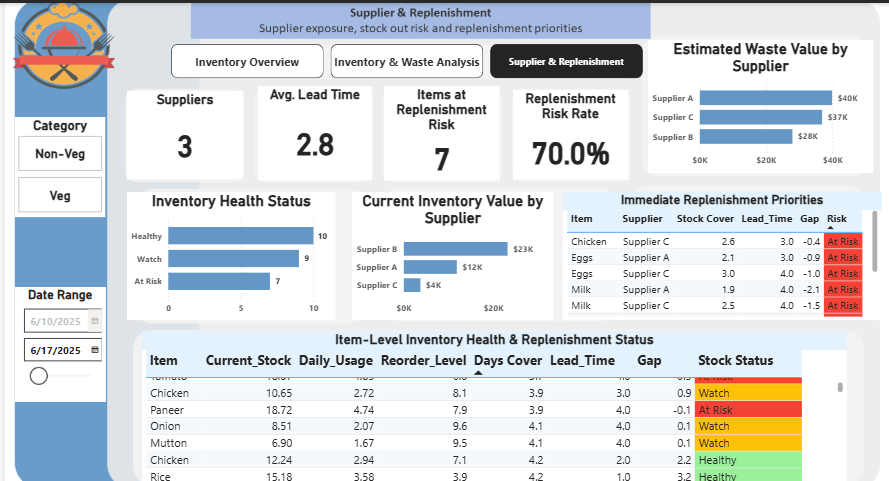

This screenshot's page, from the dashboard's own definition file:
{"tool":"powerbi","page":{"name":"Supplier & Replenishment","canvas":[1280,720],"ordinal":2},"visuals":[{"type":"card","title":"Suppliers","fields":{"Values":["_Measure.Unique Suppliers"]},"box":[174.9,145.5,166,126.4],"z":0},{"type":"card","title":"Avg. Lead Time","fields":{"Values":["_Measure.Average Lead Time"]},"box":[361.5,138.1,163.1,135.2],"z":1000},{"type":"card","title":"Items at Replenishment Risk","fields":{"Values":["_Measure.Items With Stock Coverage Risk"]},"box":[540.7,138.1,164.6,135.2],"z":2000},{"type":"card","title":"Replenishment Risk Rate","fields":{"Values":["_Measure.Stock Coverage Risk %"]},"box":[725.9,144,164.6,127.8],"z":3000},{"type":"clusteredBarChart","title":"Current Inventory Value by Supplier","fields":{"Category":["Fact_Inventory.Supplier_Name"],"Y":["_Measure.Current Inventory Value"]},"box":[495,290,288.3,183.3],"z":4000},{"type":"clusteredBarChart","title":"Estimated Waste Value by Supplier","fields":{"Category":["Fact_Inventory.Supplier_Name"],"Y":["_Measure.Waste Value"]},"box":[918.4,73.5,321.8,189.6],"z":5000},{"type":"clusteredBarChart","title":"Inventory Health Status","fields":{"Category":["Fact_Inventory.Stock Status02"],"Y":["Count(Fact_Inventory.Item_ID)"]},"box":[175,290,298.3,183.3],"z":6000},{"type":"slicer","title":"Date Range","fields":{"Values":["Dim_Date.Date"]},"box":[14.7,426.1,129.3,163.1],"z":7000},{"type":"pageNavigator","box":[236.6,77.9,675.9,50],"z":8000},{"type":"tableEx","title":"Item-Level Inventory Health & Replenishment Status","fields":{"Values":["Fact_Inventory.Item_Name","Fact_Inventory.Current_Stock","Fact_Inventory.Daily_Usage","Fact_Inventory.Reorder_Level","_Measure.Average Days of Stock Cover","Fact_Inventory.Lead_Time","_Measure.Stock Cover Gap","Fact_Inventory.Stock Status02"]},"box":[195.7,488.6,1007.1,227.1],"z":9000},{"type":"tableEx","title":"Immediate Replenishment Priorities","fields":{"Values":["Fact_Inventory.Item_Name","Fact_Inventory.Supplier_Name","_Measure.Average Days of Stock Cover","Fact_Inventory.Lead_Time","_Measure.Stock Cover Gap","Fact_Inventory.Stock Status02"]},"box":[797.3,289.9,454.7,182.9],"z":10000},{"type":"advancedSlicerVisual","title":"Category","fields":{"Values":["Fact_Inventory.Category"]},"box":[14.7,182.2,129.3,142.5],"z":11000}]}

Visuals, with their boxes on the page's 1280x720 design canvas (x1, y1, x2, y2). These are canvas units, not pixel positions in the 889x481 screenshot, which may show the page scaled, cropped or inside an application window:
"Suppliers" card: (left=175, top=146, right=341, bottom=272)
"Avg. Lead Time" card: (left=362, top=138, right=525, bottom=273)
"Items at Replenishment Risk" card: (left=541, top=138, right=705, bottom=273)
"Replenishment Risk Rate" card: (left=726, top=144, right=890, bottom=272)
"Current Inventory Value by Supplier" clusteredBarChart: (left=495, top=290, right=783, bottom=473)
"Estimated Waste Value by Supplier" clusteredBarChart: (left=918, top=74, right=1240, bottom=263)
"Inventory Health Status" clusteredBarChart: (left=175, top=290, right=473, bottom=473)
"Date Range" slicer: (left=15, top=426, right=144, bottom=589)
pageNavigator: (left=237, top=78, right=912, bottom=128)
"Item-Level Inventory Health & Replenishment Status" tableEx: (left=196, top=489, right=1203, bottom=716)
"Immediate Replenishment Priorities" tableEx: (left=797, top=290, right=1252, bottom=473)
"Category" advancedSlicerVisual: (left=15, top=182, right=144, bottom=325)
